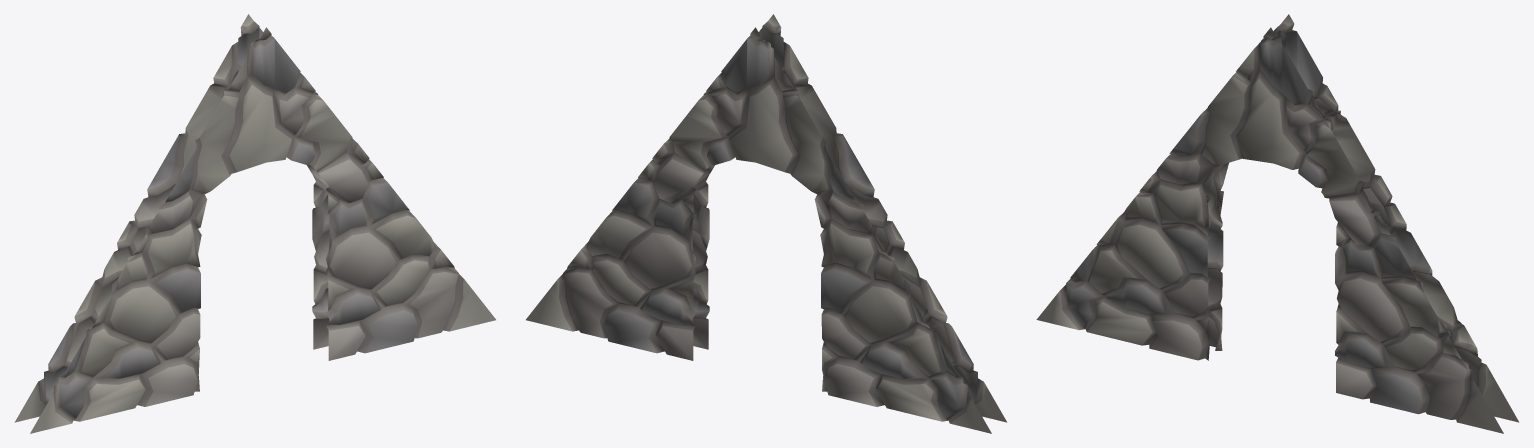
The model's file is rpgpp_ag_roof_end_01_6x5_wall_door_03c.fbx.
3 renders of one model, left to right at view 1: azimuth 30°, elevation 25°; view 2: azimuth 150°, elevation 25°; view 3: azimuth 330°, elevation 25°, orthographic.
Visible parts, largest first — view 1: rpgpp_ag_roof_end_01_6x5_wall_door_03c; view 2: rpgpp_ag_roof_end_01_6x5_wall_door_03c; view 3: rpgpp_ag_roof_end_01_6x5_wall_door_03c.
Part boxes in pixels (left/top/right/bottom): rpgpp_ag_roof_end_01_6x5_wall_door_03c: left=14, top=14, right=495, bottom=433; rpgpp_ag_roof_end_01_6x5_wall_door_03c: left=526, top=14, right=1007, bottom=433; rpgpp_ag_roof_end_01_6x5_wall_door_03c: left=1036, top=14, right=1519, bottom=433.
Bounding box in the file's own units: 6.36 × 4.57 × 0.4229.
